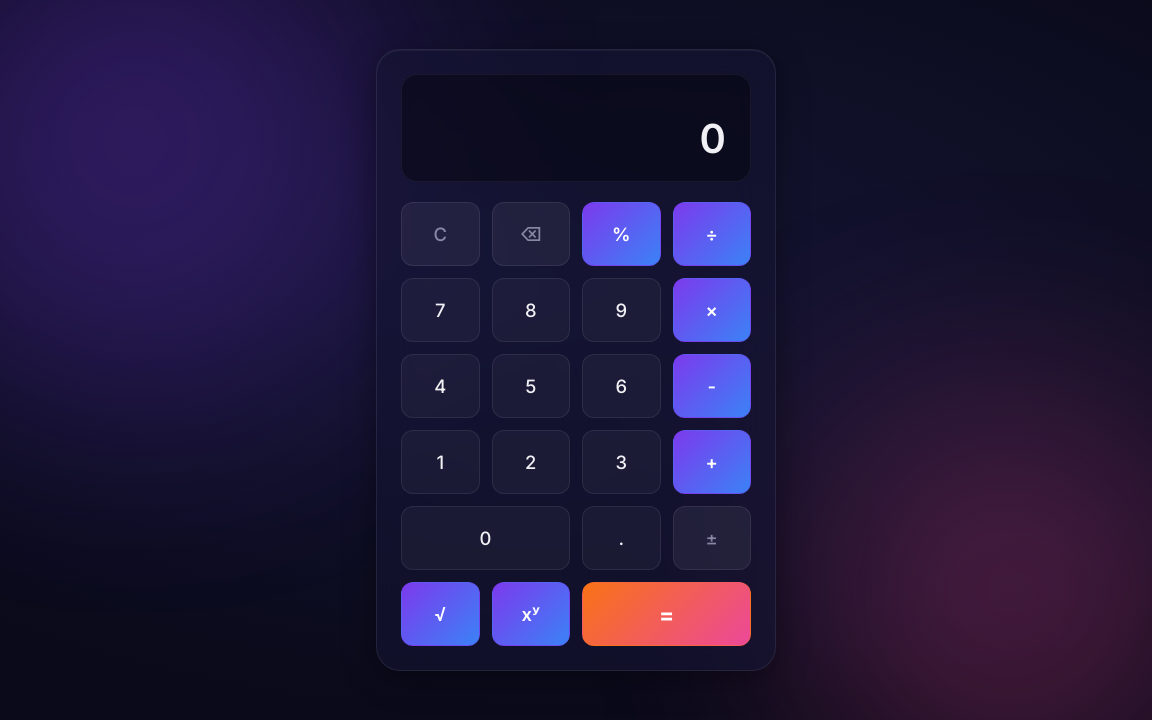
Calculator Component › handles decimal point input
What coordinates should you click on to do the following:
click the button "3"
I would click on:
 (621, 462)
Its box is [582,430,660,494].
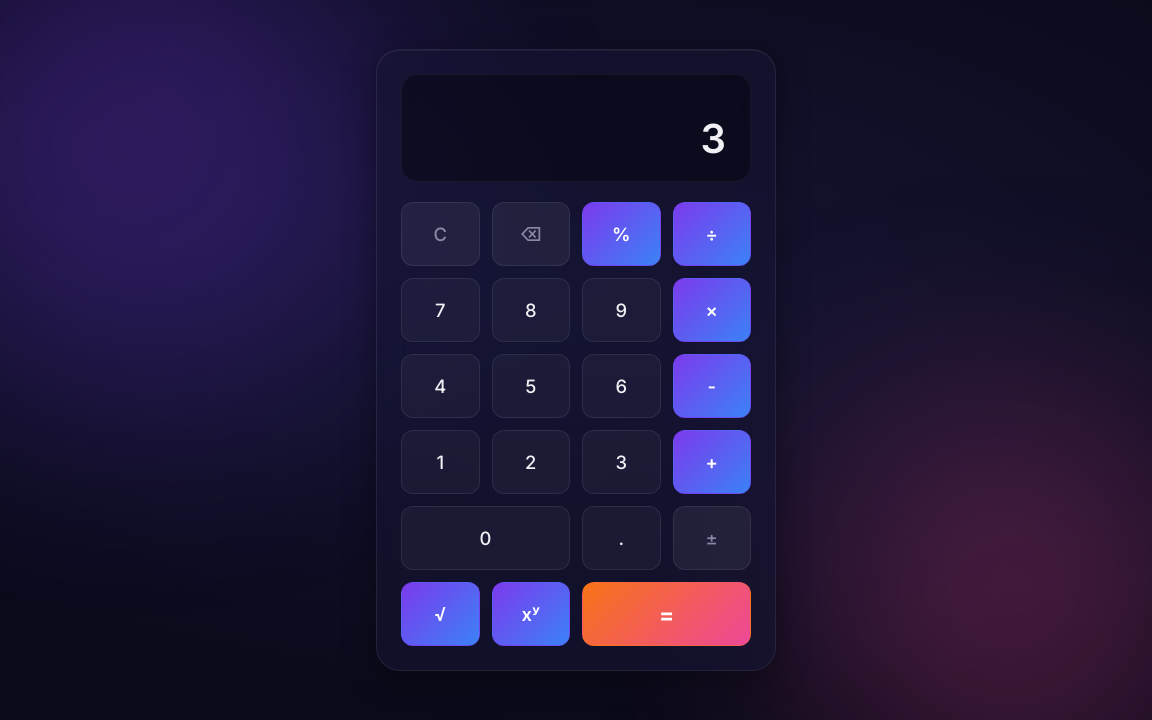
What coordinates should you click on to do the following:
click the button "."
I would click on:
 (621, 538)
Its box is [582,506,660,570].
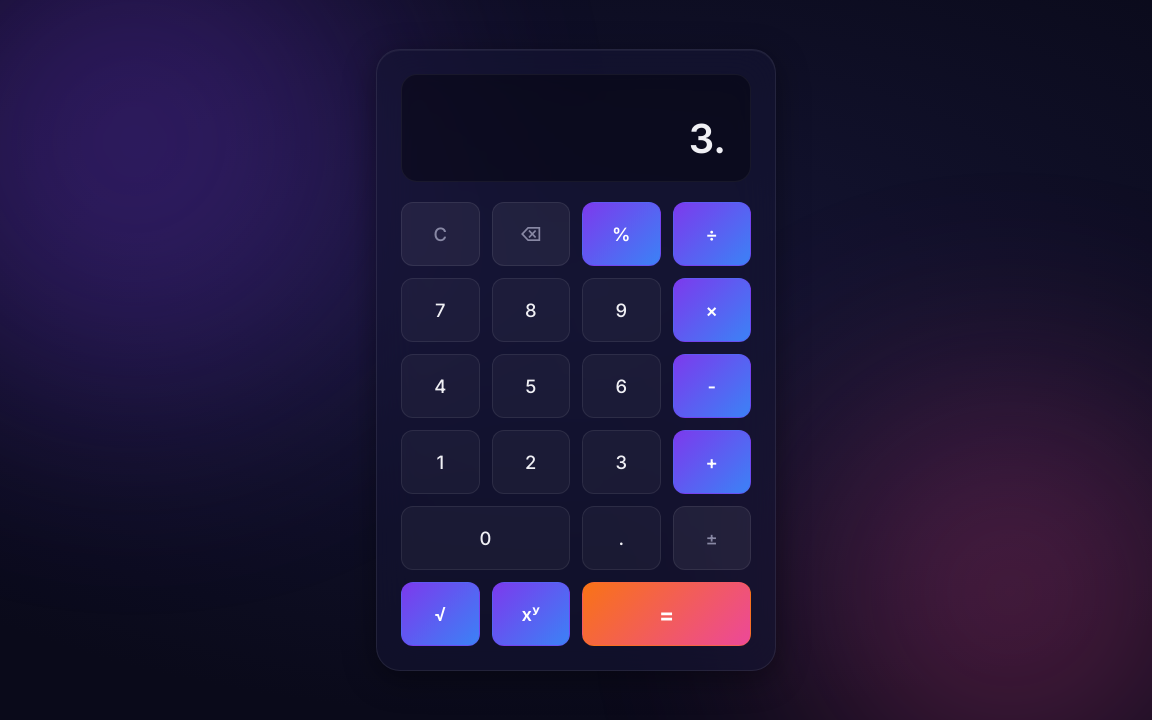
What coordinates should you click on to do the following:
click the button "1"
I would click on:
 (440, 462)
Its box is [401,430,480,494].
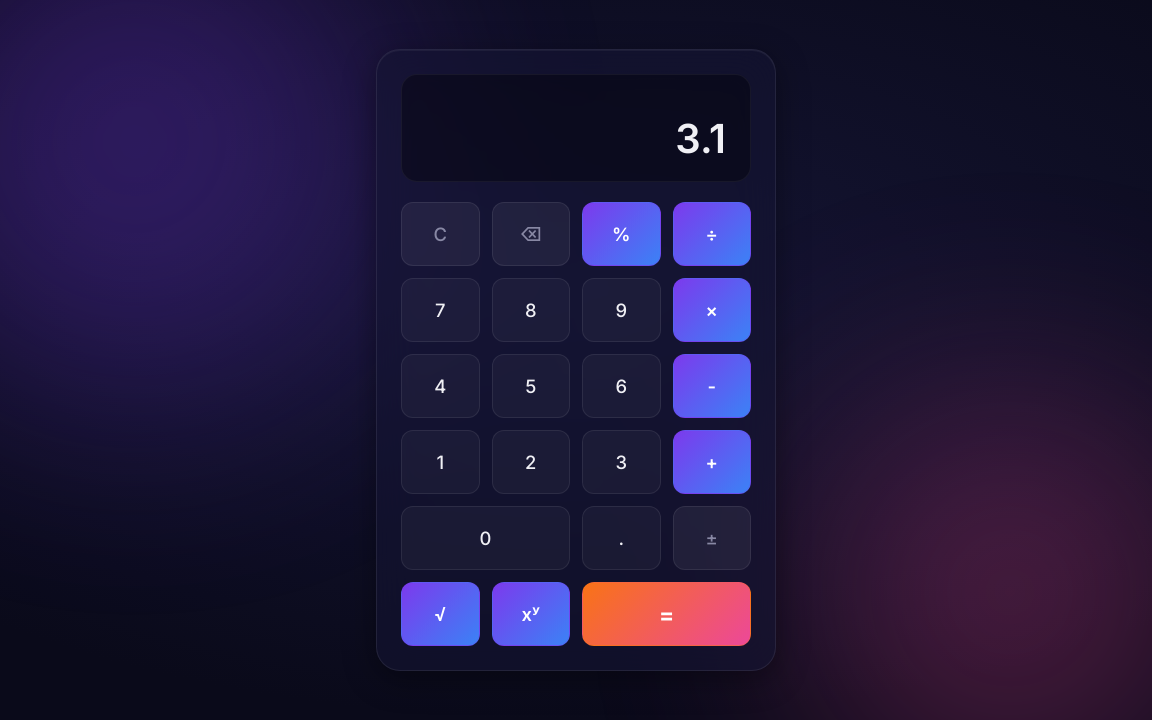
What coordinates should you click on to do the following:
click the button "4"
I would click on:
 (440, 386)
Its box is [401,354,480,418].
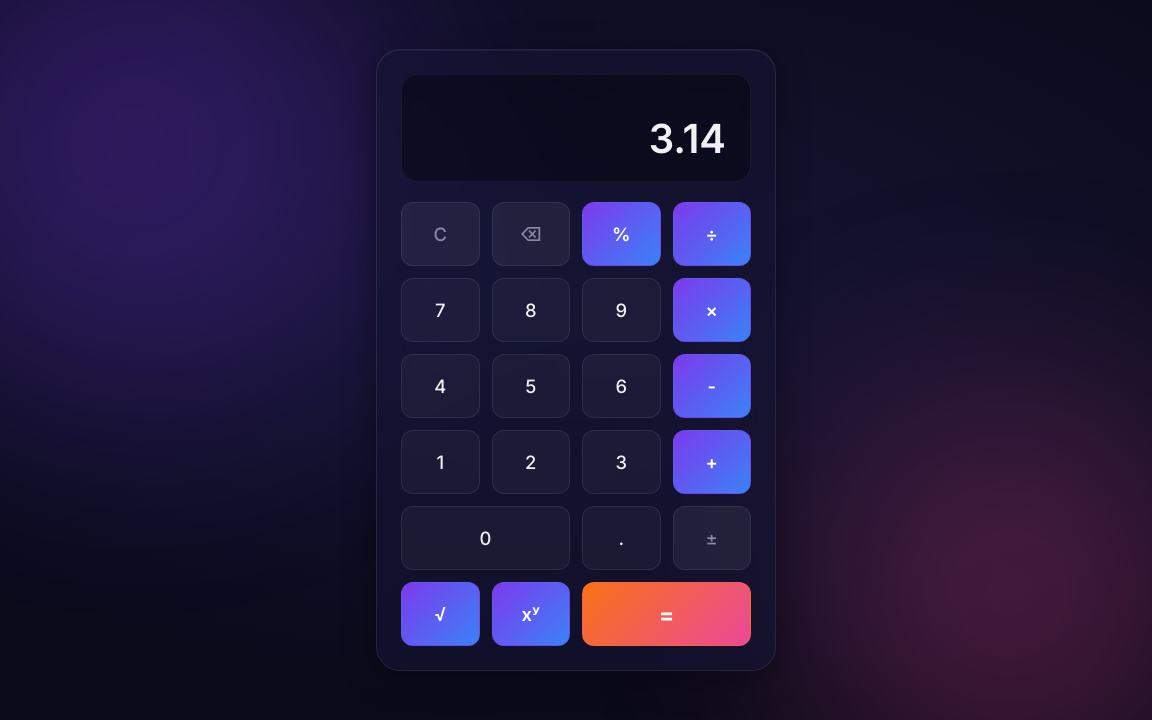
Expected: the text "3.14" is shown, [649,114,726,163]
